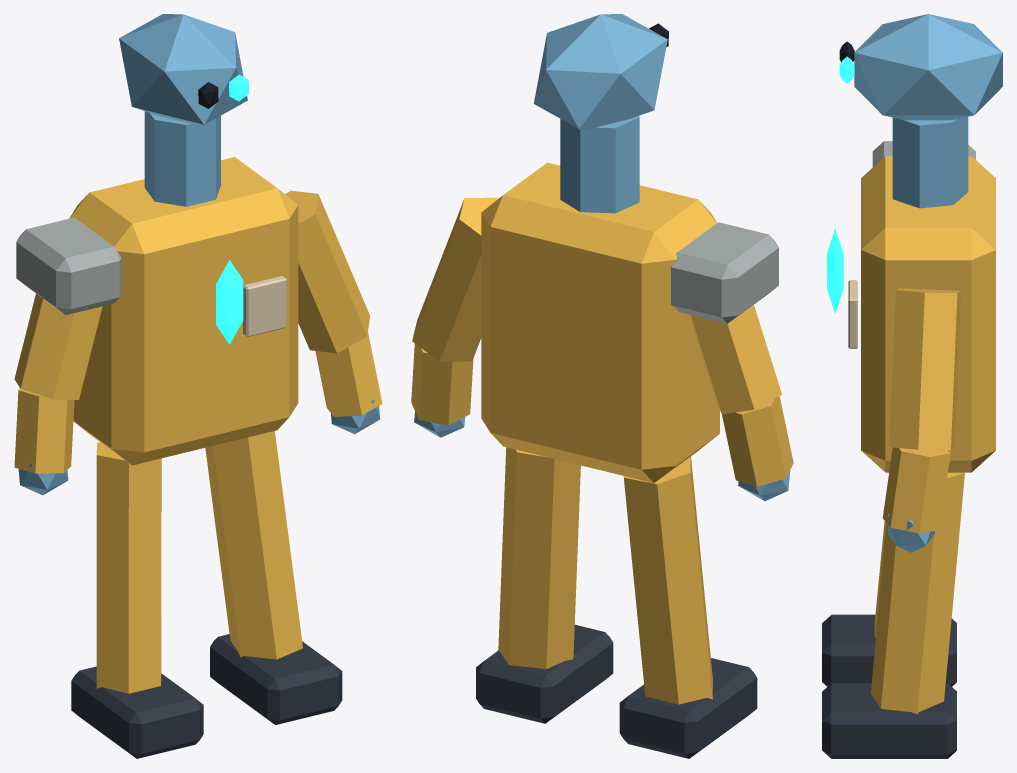
The model's file is npcs_004_seed11.glb.
The picture shows the model from 3 angles, left to right: view 1: azimuth 30°, elevation 25°; view 2: azimuth 150°, elevation 25°; view 3: azimuth 270°, elevation 25°; orthographic projection. The views are drawn at different scales.
Visible parts, largest first — view 1: npcs_004_seed11; view 2: npcs_004_seed11; view 3: npcs_004_seed11.
Part boxes in pixels (box(x1,y1,x2,y2)): npcs_004_seed11: box(14, 14, 382, 758); npcs_004_seed11: box(411, 14, 793, 758); npcs_004_seed11: box(822, 14, 1002, 758).
Bounding box in the file's own units: 0.9743 × 1.77 × 0.4178.
